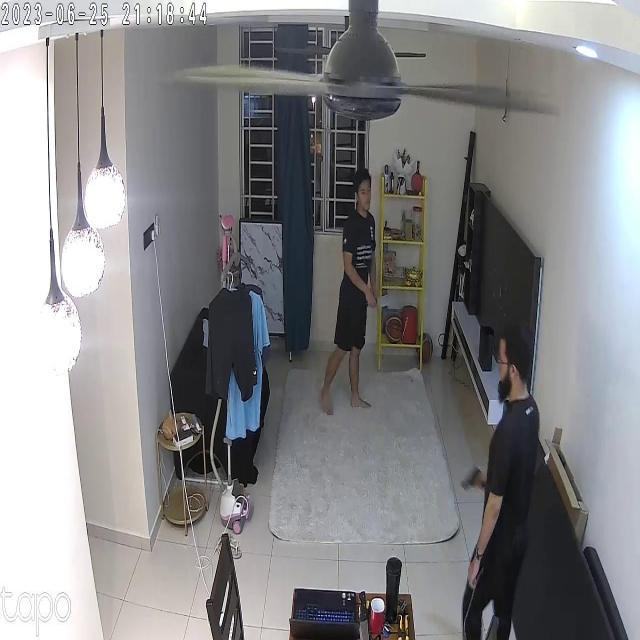Gun: (451, 450, 489, 498)
